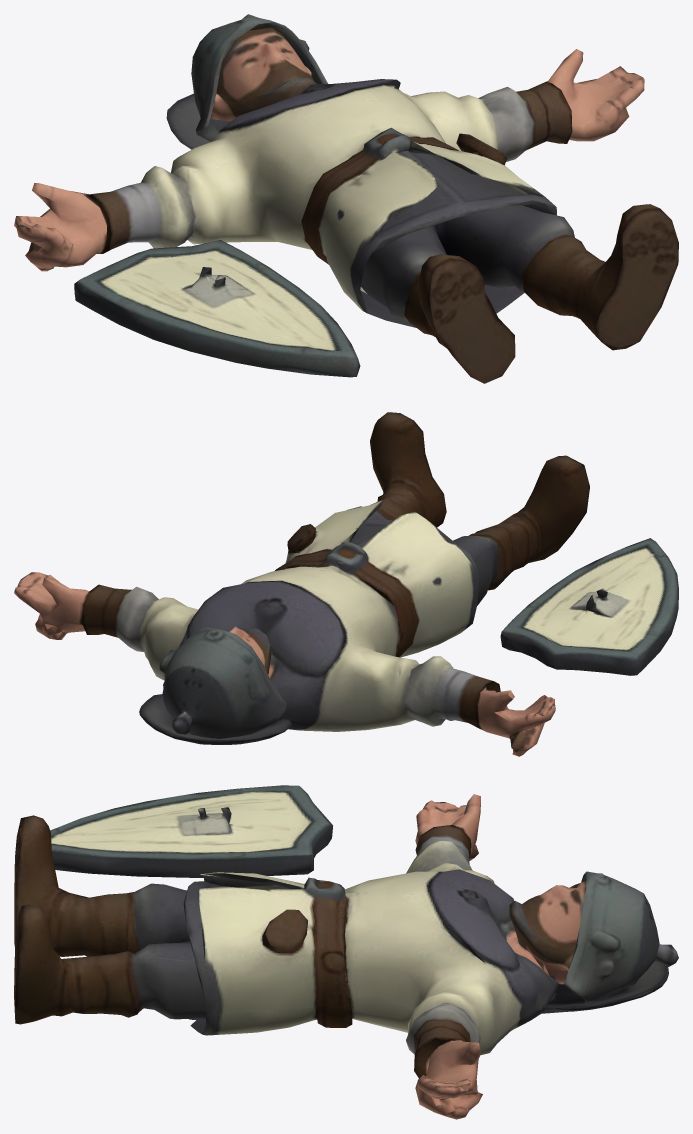
The model's file is free_spears_fallen.glb.
3 views of the same model, one above another, from view 1: azimuth 30°, elevation 25°; view 2: azimuth 150°, elevation 25°; view 3: azimuth 270°, elevation 25° (orthographic). The views are drawn at different scales.
Visible parts, largest first — view 1: world; view 2: world; view 3: world.
Boxes of the visible parts, x1,y1,x2,y2 form: world: (14, 14, 678, 383); world: (14, 412, 678, 756); world: (14, 785, 678, 1119).
Bounding box in the file's own units: 0.9931 × 0.2436 × 0.9409.
1 material, 1 textured.
